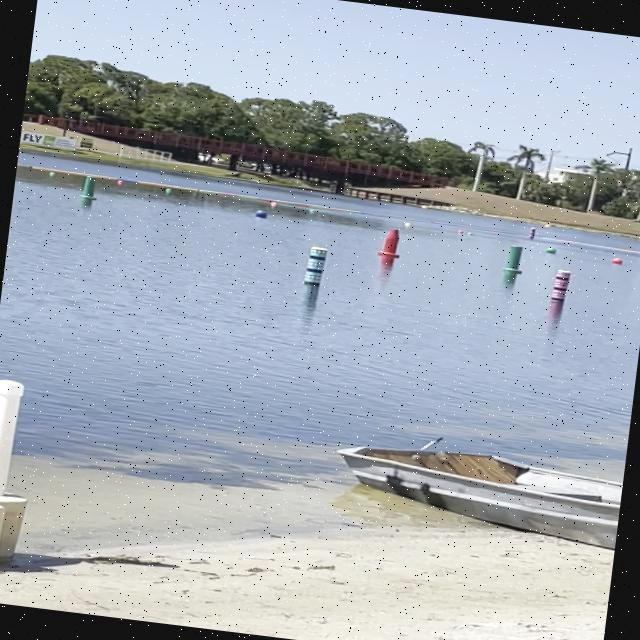buoy: (540, 242, 561, 258), (607, 255, 627, 268), (248, 207, 268, 218)
